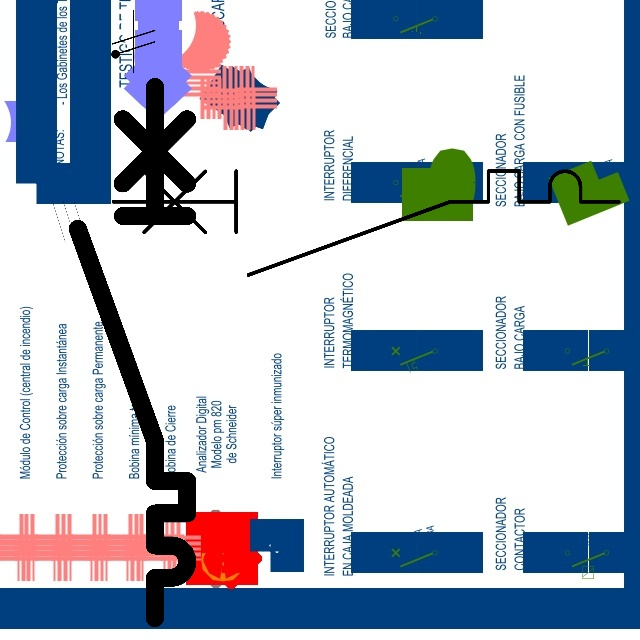interruptor_termomagnetico: (64, 73, 201, 632), (100, 158, 632, 288)
